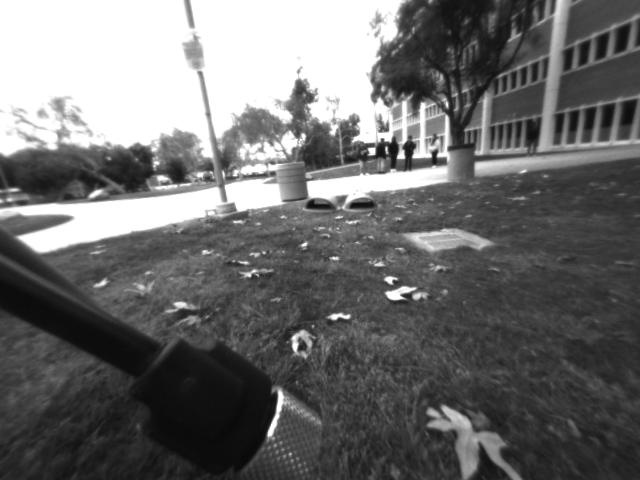trashcan: (269, 155, 312, 202), (443, 140, 479, 186)
